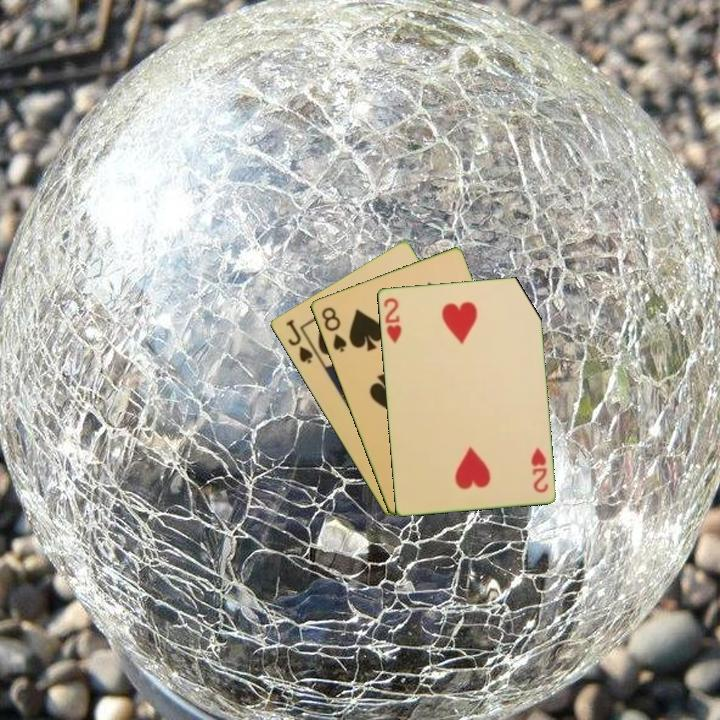2h: (380, 294, 404, 346), (527, 444, 551, 495)
8s: (318, 303, 349, 355)
Js: (282, 316, 315, 367)
